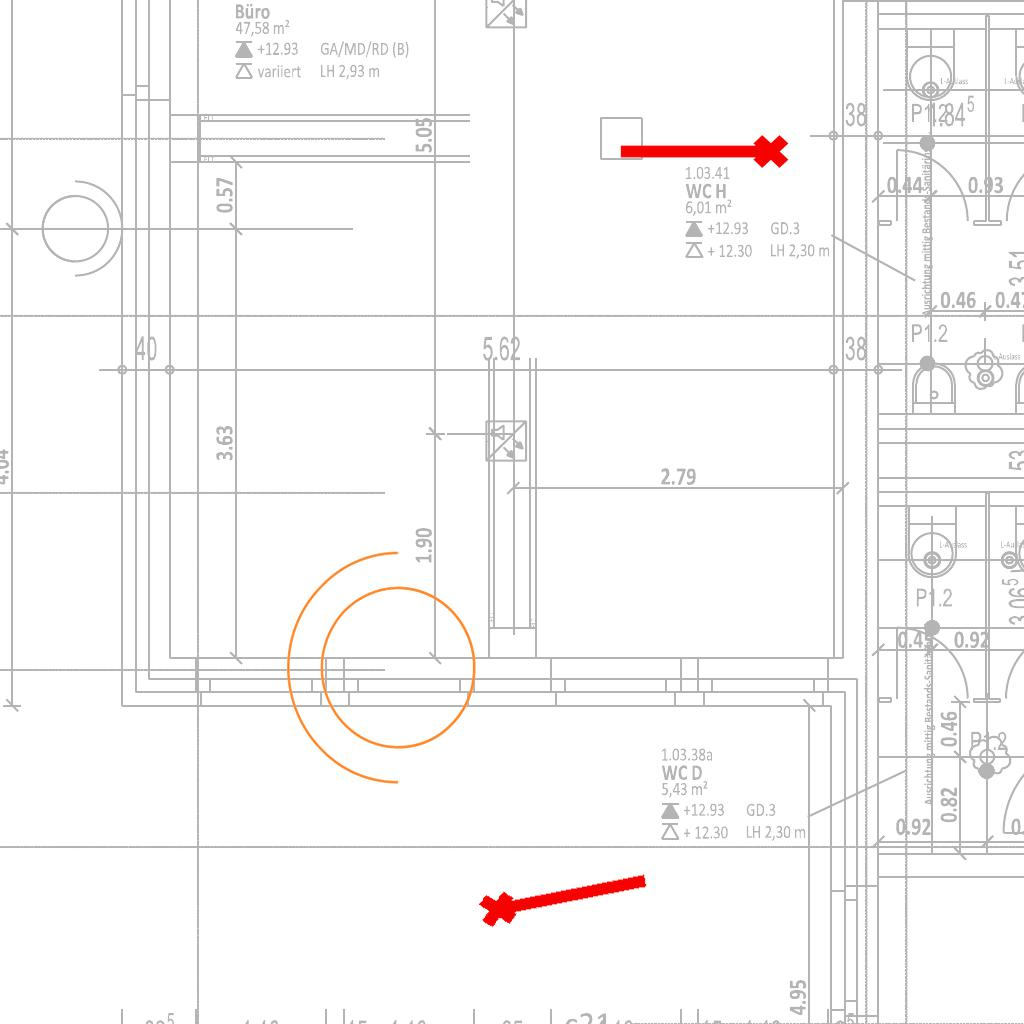ASR_Ansaugoeffnung: (473, 854, 655, 934), (615, 131, 791, 177)
Scheinwerfer_fuer_Alarmbeleuchtung: (276, 542, 501, 806)
